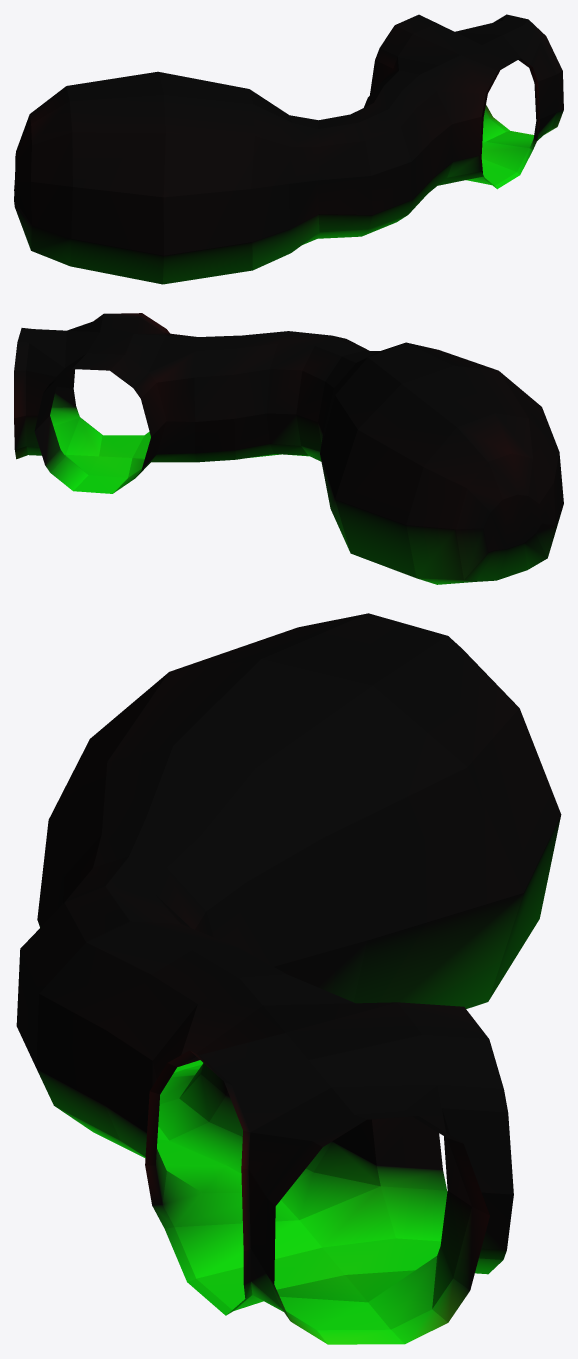
Rendered from MiningCavern_1.obj.
3 views of the same model, one above another, from view 1: azimuth 30°, elevation 25°; view 2: azimuth 150°, elevation 25°; view 3: azimuth 270°, elevation 25° (orthographic). The views are drawn at different scales.
Visible parts, largest first — view 1: MiningTunnel_Cross_1; view 2: MiningTunnel_Cross_1; view 3: MiningTunnel_Cross_1.
Part boxes in pixels (box(x1,y1,x2,y2)): MiningTunnel_Cross_1: box(14, 14, 563, 284); MiningTunnel_Cross_1: box(14, 313, 563, 584); MiningTunnel_Cross_1: box(16, 613, 561, 1344).
Bounding box in the file's own units: 18.08 × 5.47 × 8.19.
